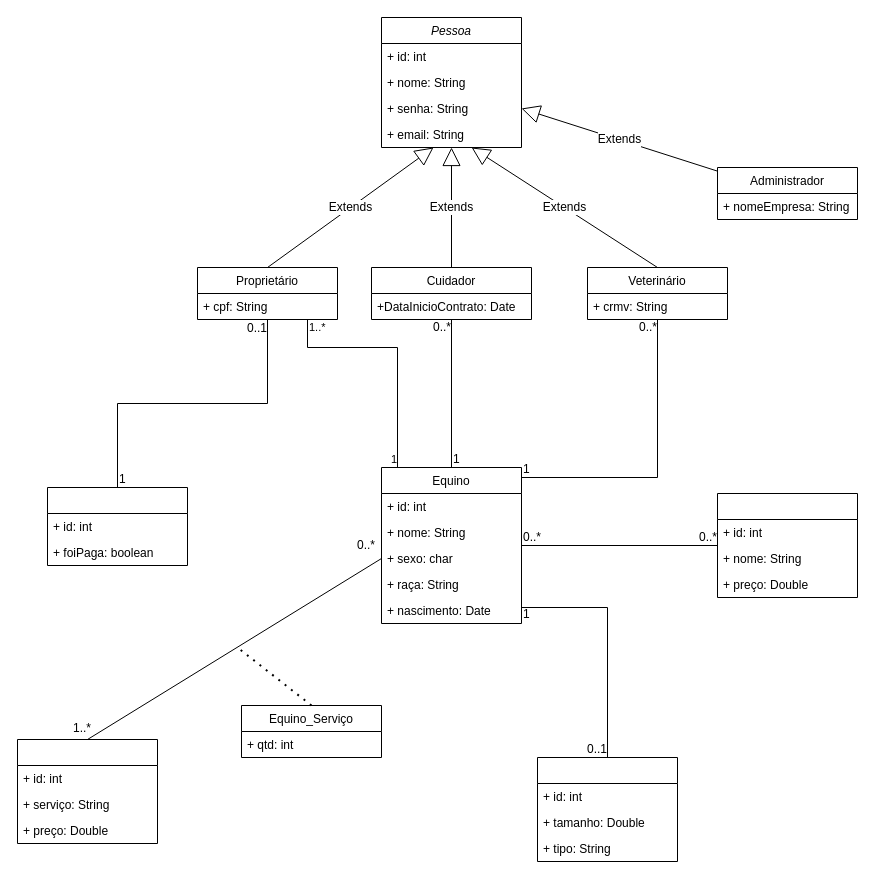
The diagram is 875 pixels wide and 882 high, and some of its shapes have lost their labels. Each missing label, with the box of its shape:
Alimento: (716, 492, 858, 598)
Baia: (536, 756, 678, 862)
Fatura: (46, 486, 188, 566)
Serviço Adicional: (16, 738, 158, 844)
